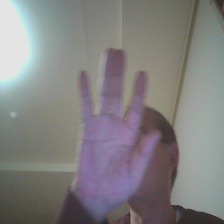hand: (72, 42, 160, 213)
